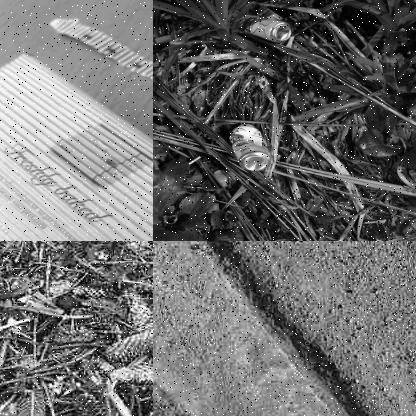cardboard: (0, 50, 152, 240), (51, 9, 152, 158)
metal: (224, 122, 276, 178), (234, 4, 298, 44)
